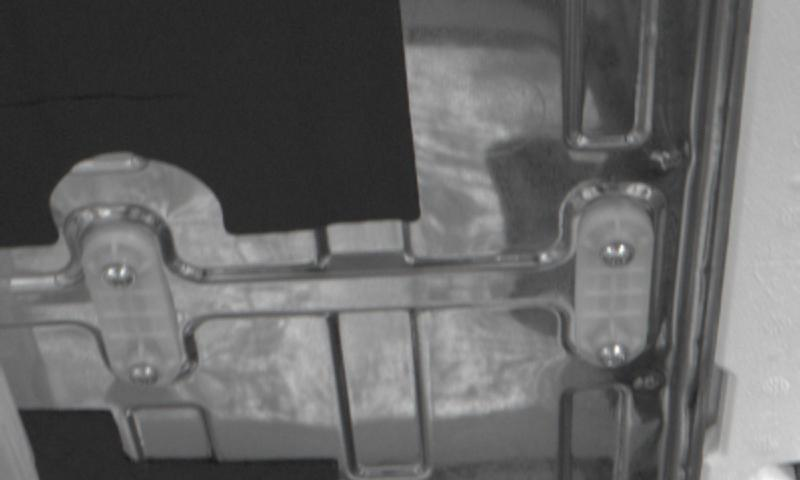vida-ok: (599, 233, 643, 278), (94, 260, 134, 305), (126, 358, 168, 398), (595, 334, 635, 373)
